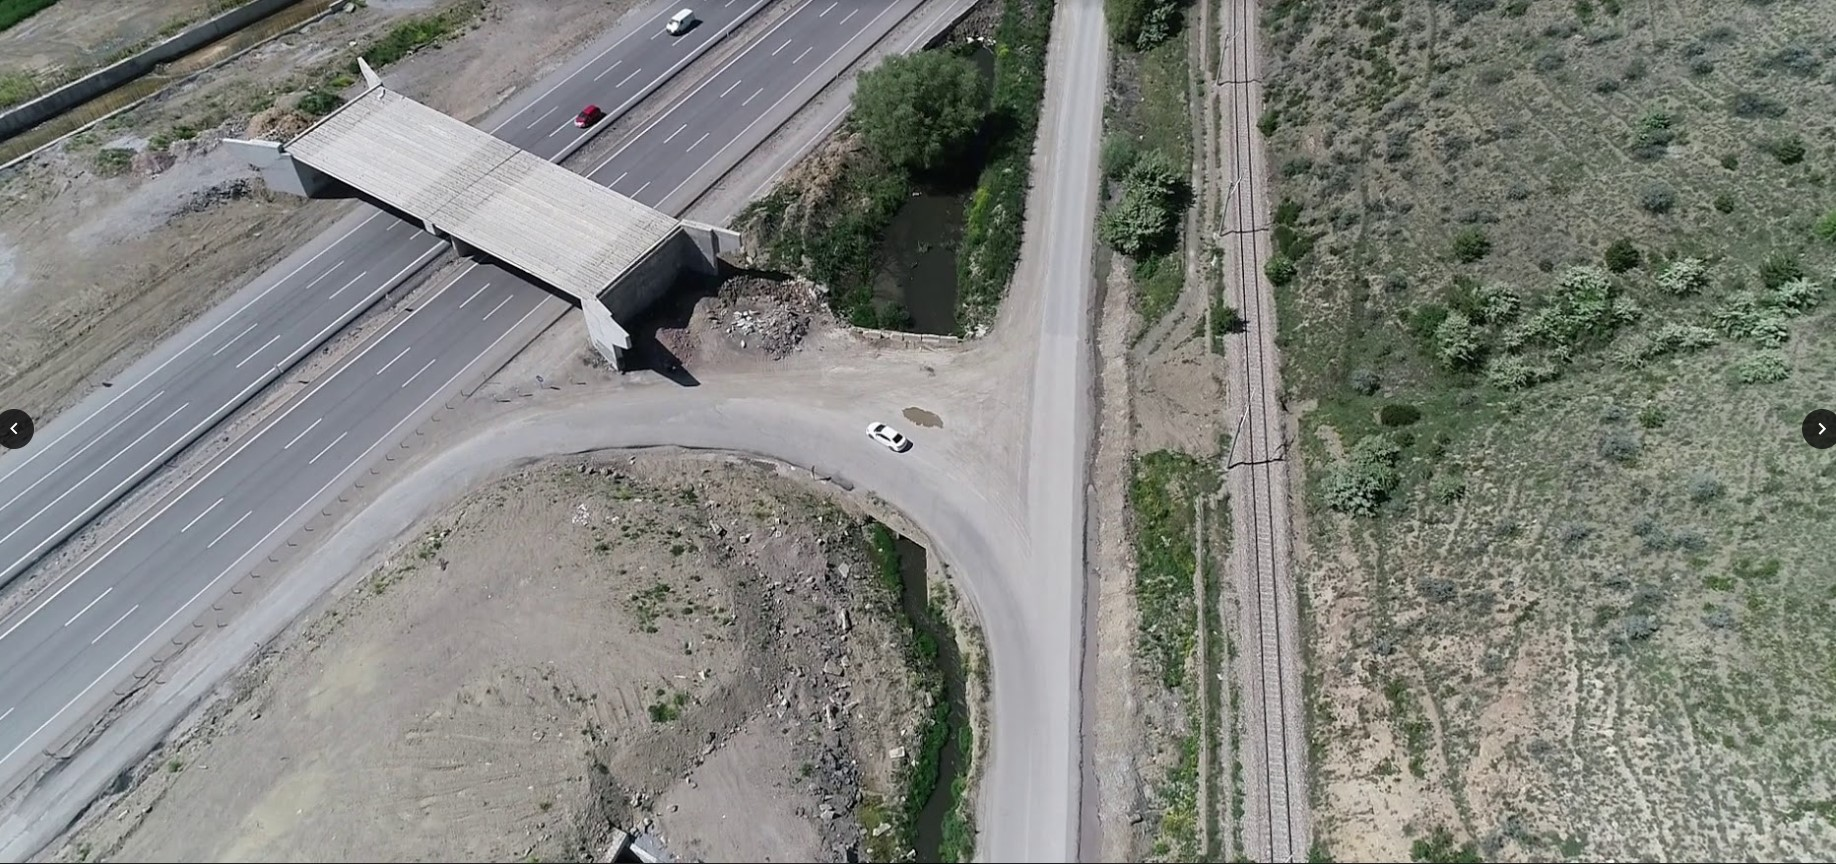araba: (866, 419, 909, 451), (667, 8, 693, 35), (575, 104, 604, 126)
